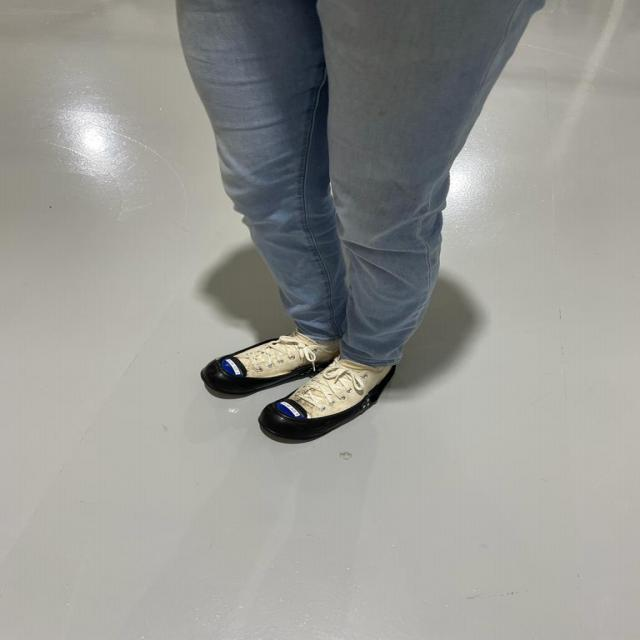shoes: (250, 359, 399, 451), (194, 325, 328, 398)
